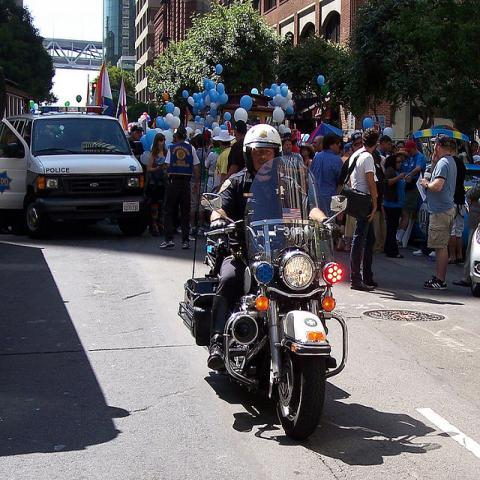car: (1, 113, 145, 235), (468, 224, 479, 295)
motorcycle: (184, 154, 346, 439)
